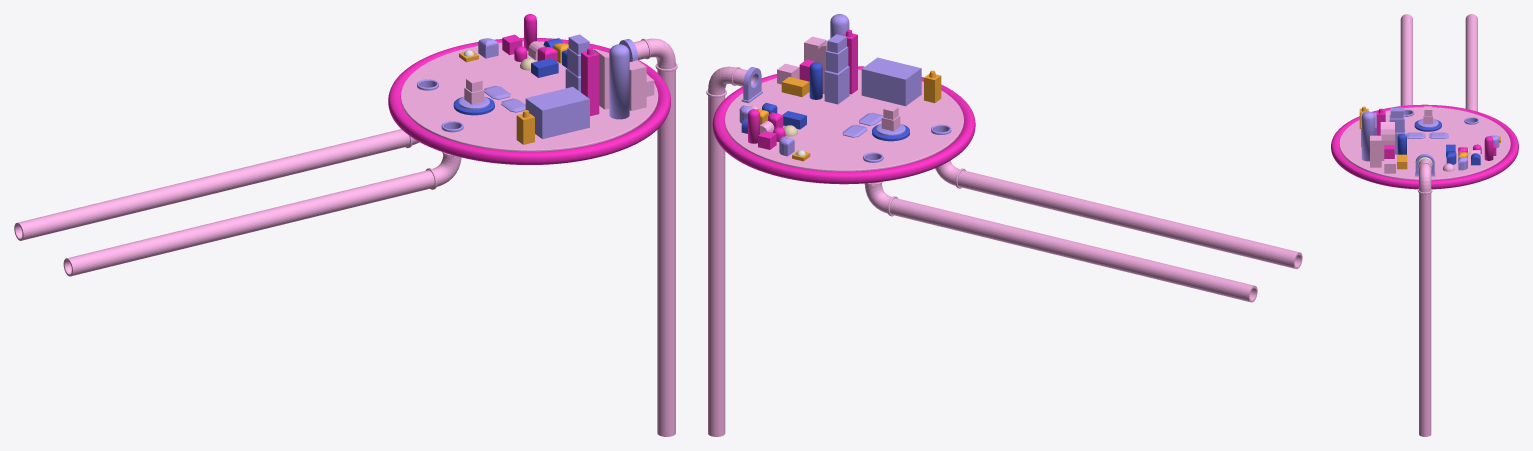
Rendered from platform_level1_a01.glb.
3 views of the same model, side by side, from view 1: azimuth 30°, elevation 25°; view 2: azimuth 150°, elevation 25°; view 3: azimuth 270°, elevation 25° (orthographic). The views are drawn at different scales.
Visible parts, largest first — view 1: Cylinder.038, Cube.138, Cube.137, Cube.135, Cylinder.039, Cube.169, Cylinder.048, Cube.168, Cube.161, Cube.164, Cube.162; view 2: Cylinder.038, Cube.137, Cube.138, Cube.135, Cylinder.039, Cube.169, Cube.161, Cube.168, Cube.084; view 3: Cylinder.038, Cube.135, Cylinder.039, Cube.137, Cube.138, Cylinder.048, Cube.161, Cube.162, Cube.164, Cylinder.051, Cylinder.047, Cube.168.
Part boxes in pixels (x1,y1,x2,y2): Cylinder.038: (400, 41, 658, 151); Cube.138: (63, 152, 461, 276); Cube.137: (14, 129, 419, 240); Cube.135: (633, 38, 677, 436); Cylinder.039: (388, 37, 670, 164); Cube.169: (525, 86, 589, 139); Cylinder.048: (609, 44, 629, 119); Cube.168: (581, 47, 599, 116); Cube.161: (565, 34, 589, 92); Cube.164: (629, 60, 646, 110); Cube.162: (594, 49, 609, 109); Cylinder.038: (724, 69, 963, 171); Cube.137: (864, 181, 1257, 302); Cube.138: (935, 160, 1302, 269); Cube.135: (706, 66, 754, 436); Cylinder.039: (712, 66, 975, 184); Cube.169: (861, 57, 921, 106); Cube.161: (824, 34, 849, 104); Cube.168: (842, 29, 857, 94); Cube.084: (741, 67, 762, 103); Cylinder.038: (1339, 107, 1510, 180); Cube.135: (1417, 159, 1432, 436); Cylinder.039: (1331, 104, 1518, 189); Cube.137: (1465, 14, 1477, 111); Cube.138: (1400, 14, 1412, 105); Cylinder.048: (1361, 111, 1375, 161); Cube.161: (1389, 107, 1405, 154); Cube.162: (1380, 122, 1394, 160); Cube.164: (1370, 135, 1381, 167); Cylinder.051: (1484, 136, 1493, 160); Cylinder.047: (1397, 133, 1406, 154); Cube.168: (1376, 108, 1385, 135).
Size of the model in its own units: 101 by 68.2 by 39.71.
